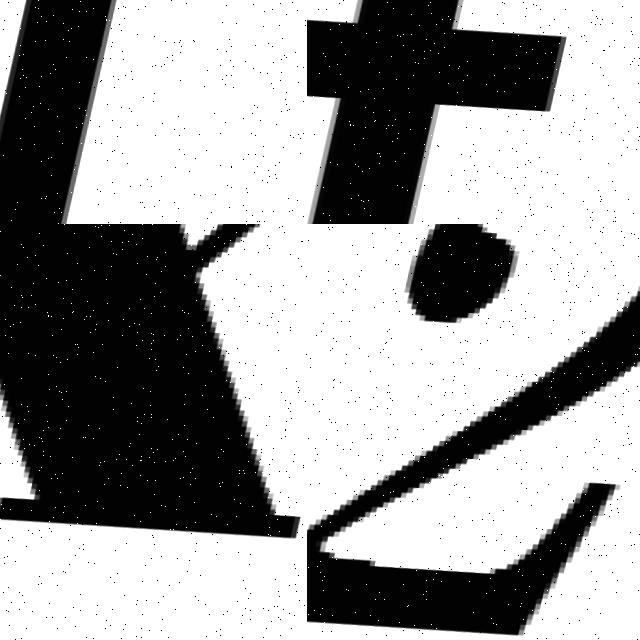2: (307, 224, 640, 640)
F: (307, 0, 610, 224)
R: (0, 0, 307, 224)
X: (0, 224, 307, 574)
